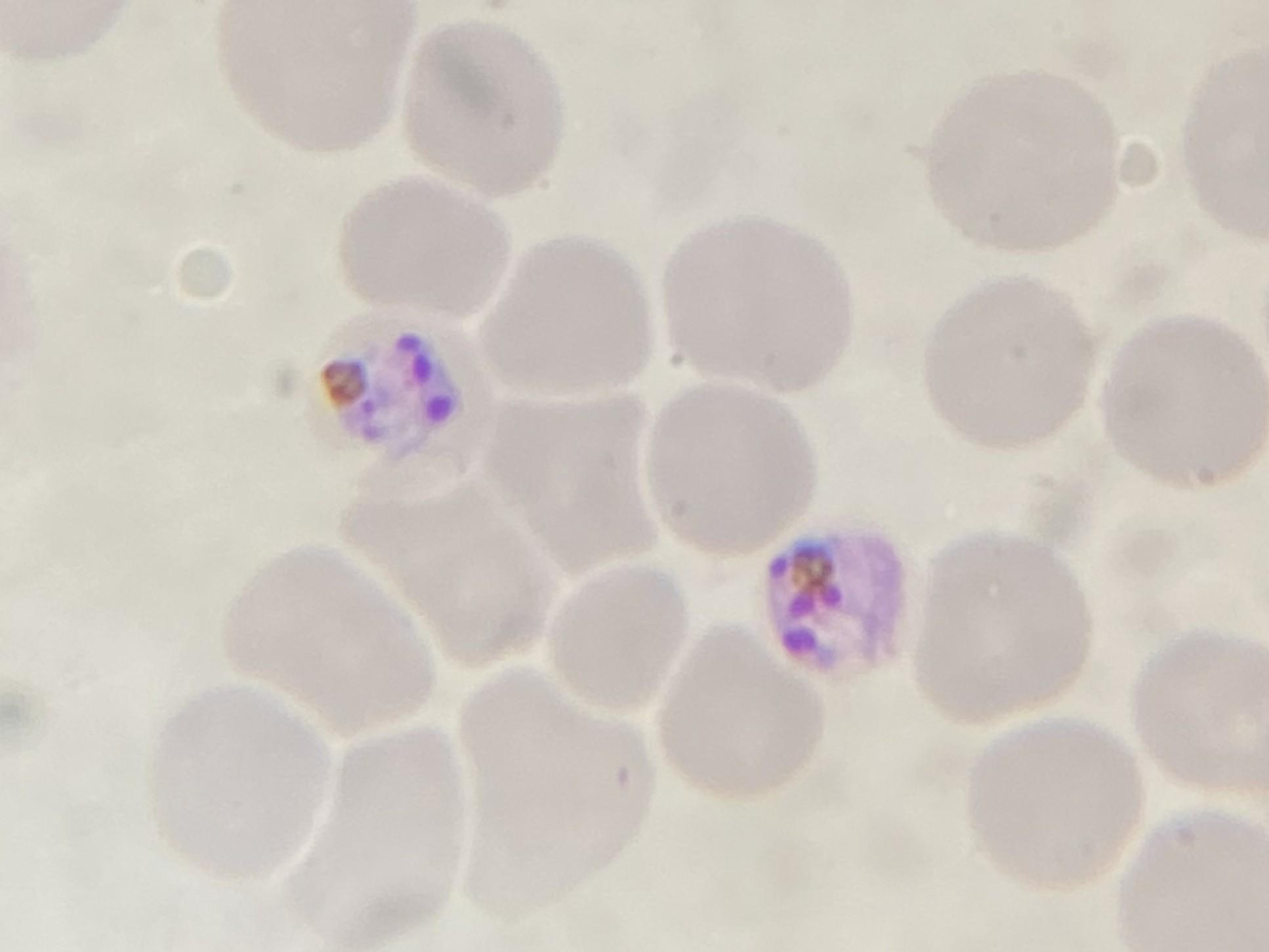Infected: (315, 329, 464, 478), (761, 530, 911, 676)
Uninfected: (461, 666, 659, 921), (221, 547, 445, 729), (346, 473, 548, 666), (914, 62, 1118, 249), (144, 687, 332, 883), (293, 731, 465, 945), (914, 537, 1095, 719), (923, 272, 1097, 452), (210, 0, 416, 150), (483, 403, 661, 571), (1102, 313, 1269, 492), (667, 215, 847, 379), (656, 622, 827, 794), (971, 722, 1142, 894), (650, 383, 818, 557), (477, 239, 650, 398), (346, 178, 513, 319), (1140, 635, 1269, 797), (547, 565, 687, 710)
